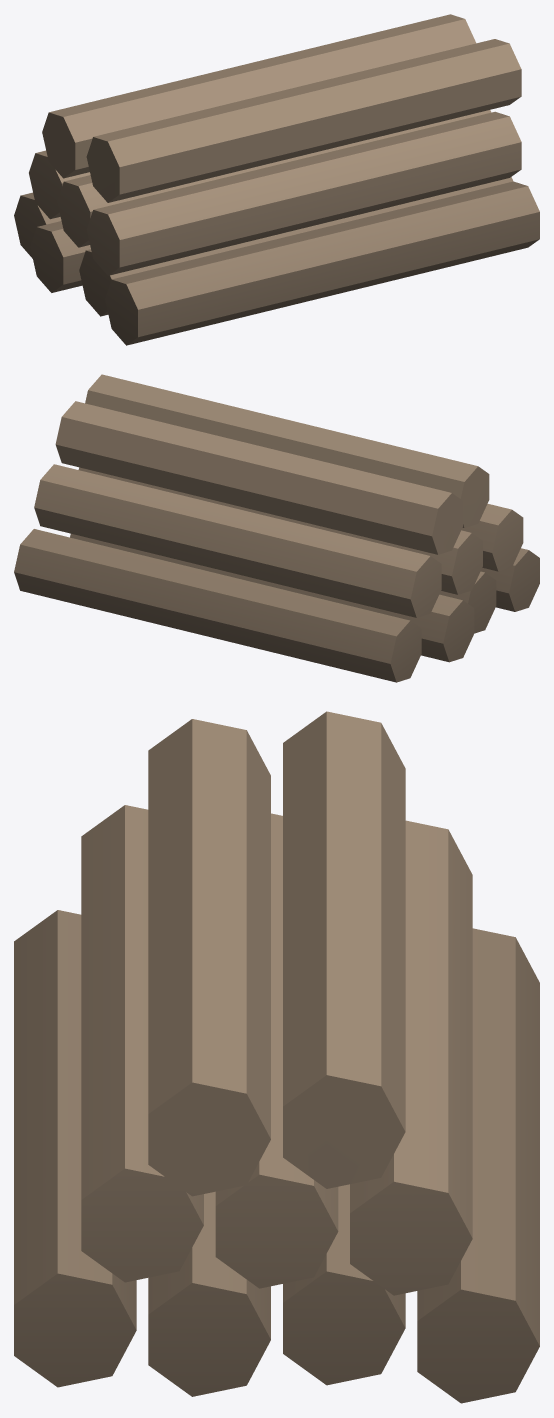
The model's file is iv_logs.glb.
3 renders of one model, top to bottom at view 1: azimuth 30°, elevation 25°; view 2: azimuth 150°, elevation 25°; view 3: azimuth 270°, elevation 25°, orthographic. The views are drawn at different scales.
Parts seen in each view (by area): view 1: iv_logs; view 2: iv_logs; view 3: iv_logs.
Part boxes in pixels (left/top/right/bottom): iv_logs: left=14, top=14, right=539, bottom=345; iv_logs: left=14, top=374, right=539, bottom=682; iv_logs: left=14, top=711, right=539, bottom=1403.
Bounding box in the file's own units: 3.36 × 1.32 × 1.96.
